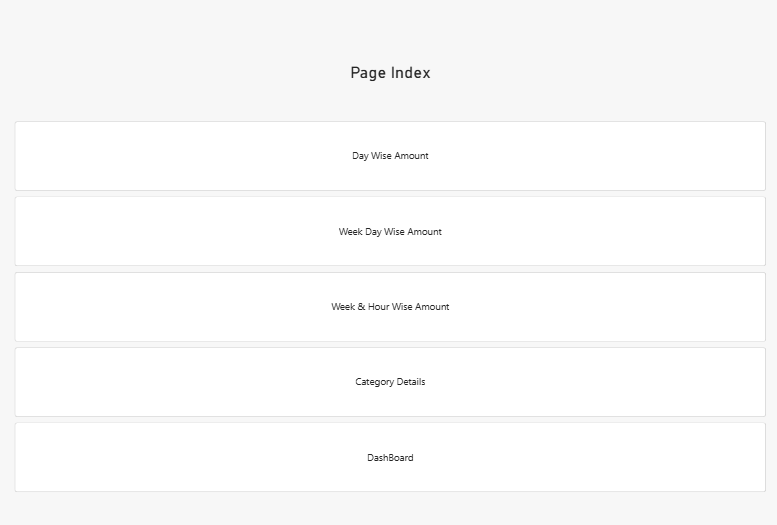

This screenshot's page, from the dashboard's own definition file:
{"tool":"powerbi","page":{"name":"Page Navigator","canvas":[1920,1080],"ordinal":0},"visuals":[{"type":"pageNavigator","box":[415.8,269.6,1088.9,539.3],"z":0},{"type":"textbox","title":"Page Index","box":[415.8,185.2,1088.9,35],"z":1000}]}

Visuals, with their boxes on the page's 1920x1080 design canvas (x1, y1, x2, y2). These are canvas units, not pixel positions in the 777x525 screenshot, which may show the page scaled, cropped or inside an application window:
pageNavigator: region(416, 270, 1505, 809)
"Page Index" textbox: region(416, 185, 1505, 220)
